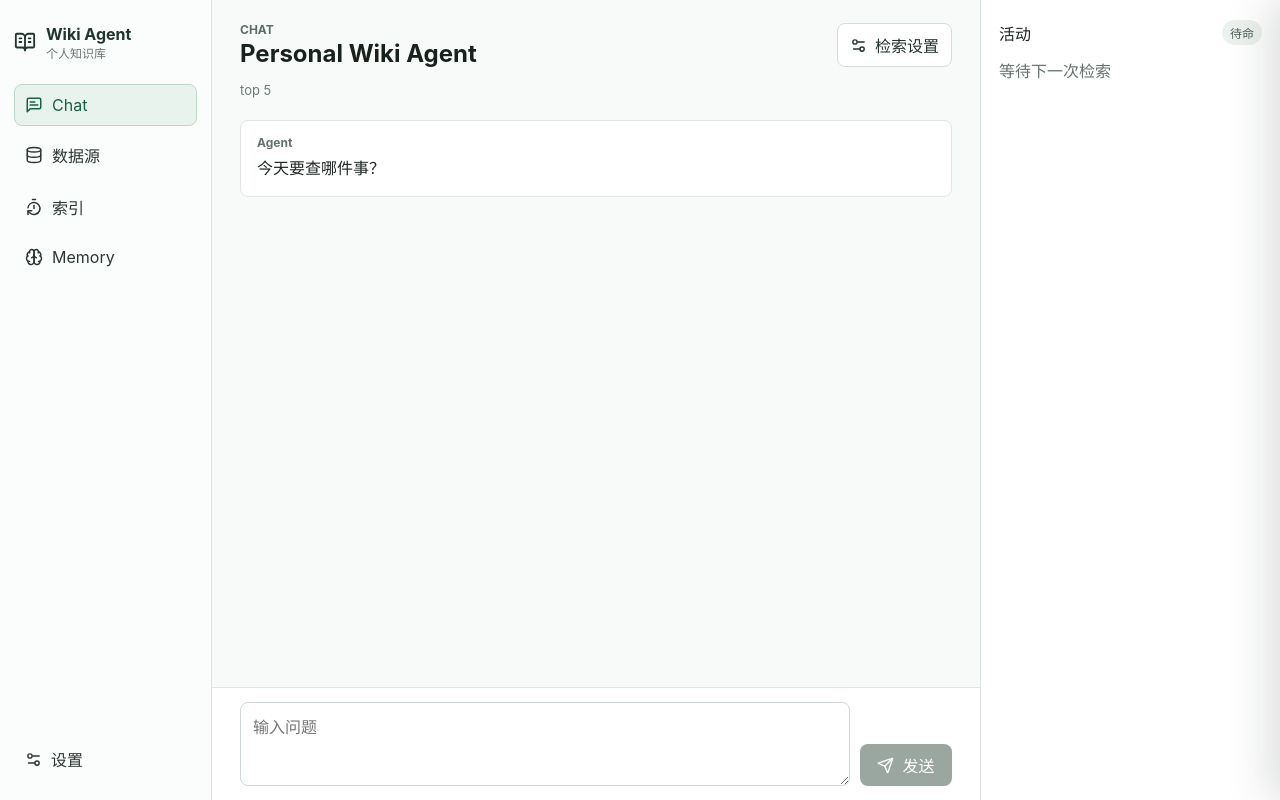
Test: App navigation › opens the Memory management page from the sidebar
Click the button "Memory": coordinates (106, 257) [14,236,197,278]
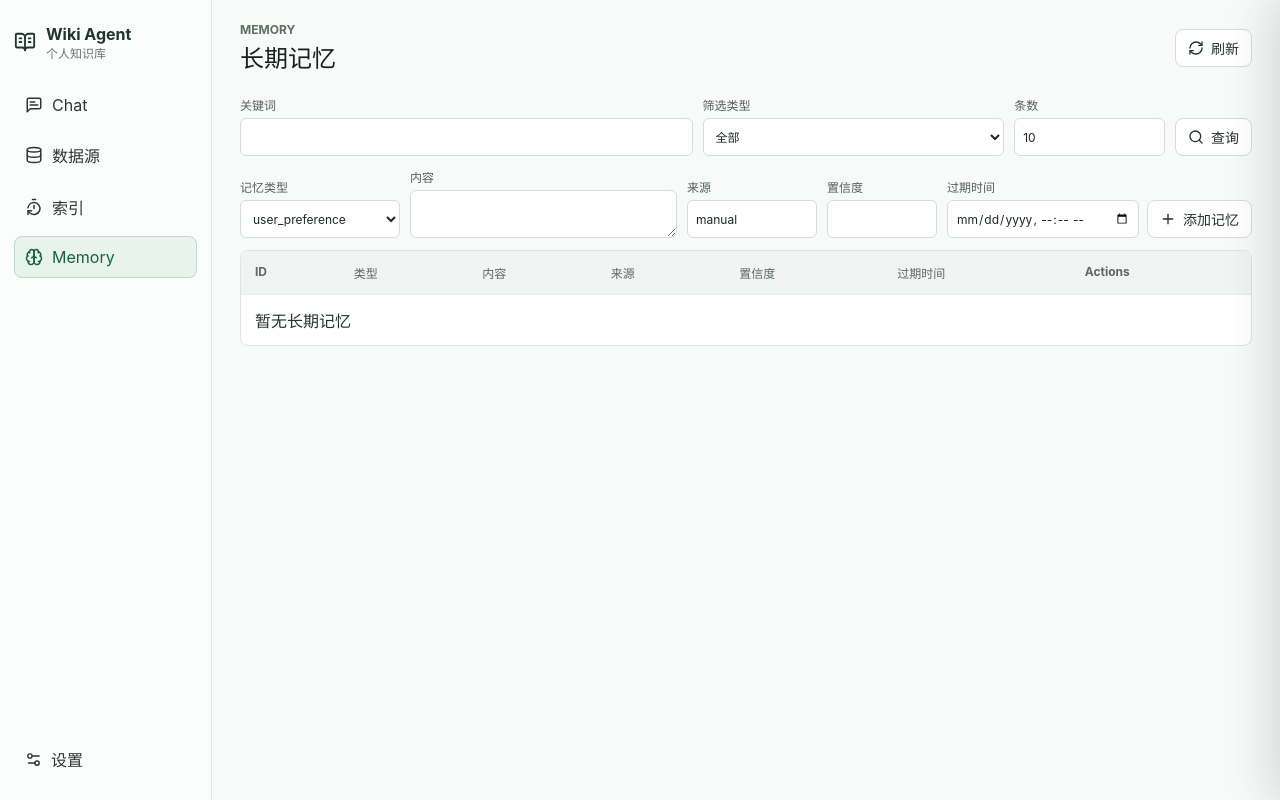
Expected: the heading "长期记忆" is shown, [240,39,336,74]
